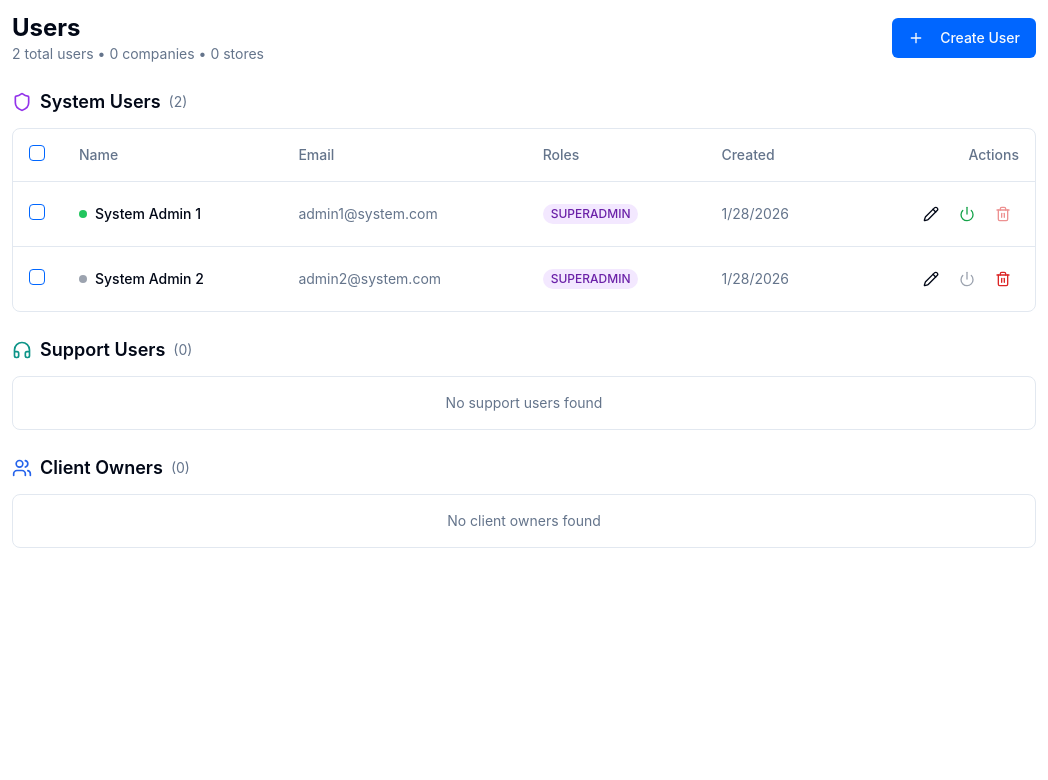
HierarchicalUserList Component › Bulk Selection › [P0] HUL-072: should show BulkActionsBar when users are selected
What coordinates should you click on to do the following:
click the checkbox named "Select System Admin 1"
I would click on:
 (37, 212)
Its box is [29,204,45,220].
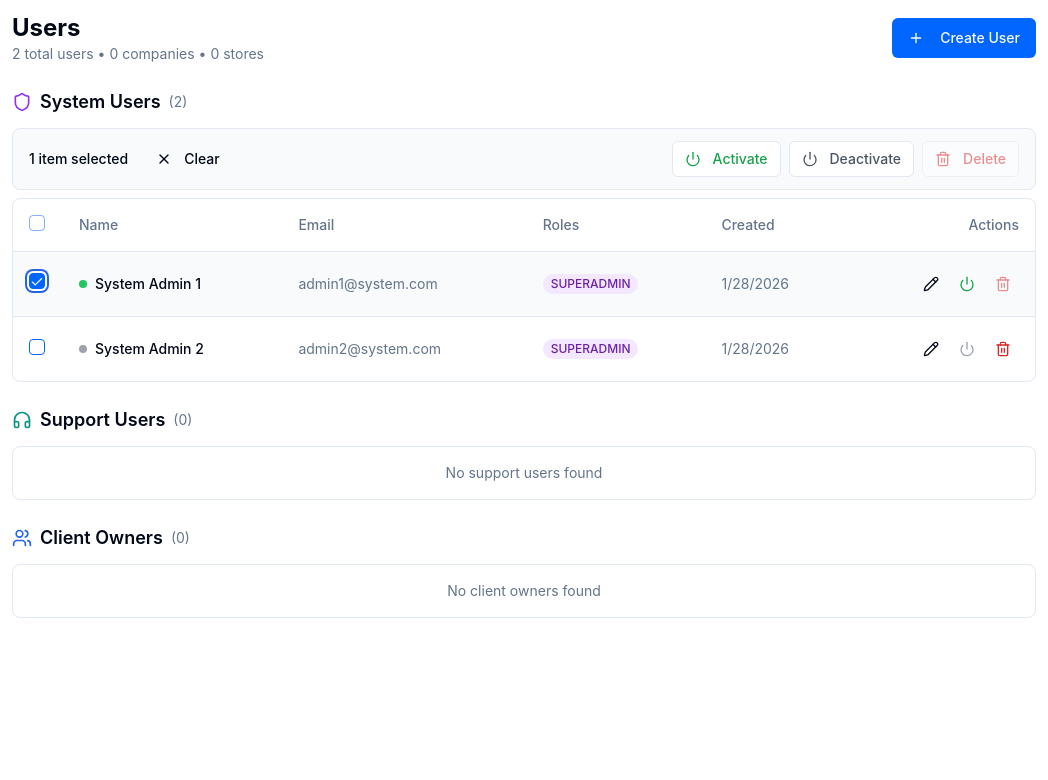
expect the text "1 item selected" is shown: met, box [29,149,128,169]
